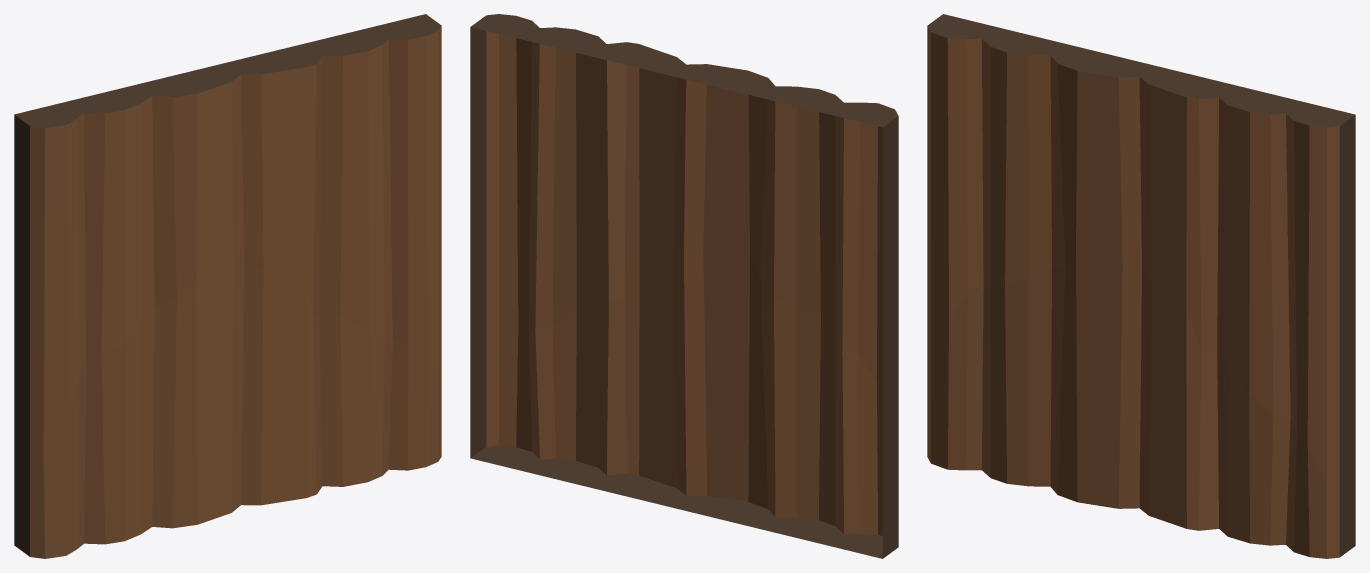
Rendered from wall-wood-vertical-3x3m.fbx.
The picture shows the model from 3 angles, left to right: view 1: azimuth 30°, elevation 25°; view 2: azimuth 150°, elevation 25°; view 3: azimuth 330°, elevation 25°; orthographic projection.
Visible parts, largest first — view 1: wall-wood-vertical-3x3m; view 2: wall-wood-vertical-3x3m; view 3: wall-wood-vertical-3x3m.
Part boxes in pixels (left/top/right/bottom): wall-wood-vertical-3x3m: left=14, top=14, right=441, bottom=558; wall-wood-vertical-3x3m: left=470, top=14, right=898, bottom=558; wall-wood-vertical-3x3m: left=927, top=14, right=1355, bottom=558.
Bounding box in the file's own units: 3 × 3 × 0.3163.
